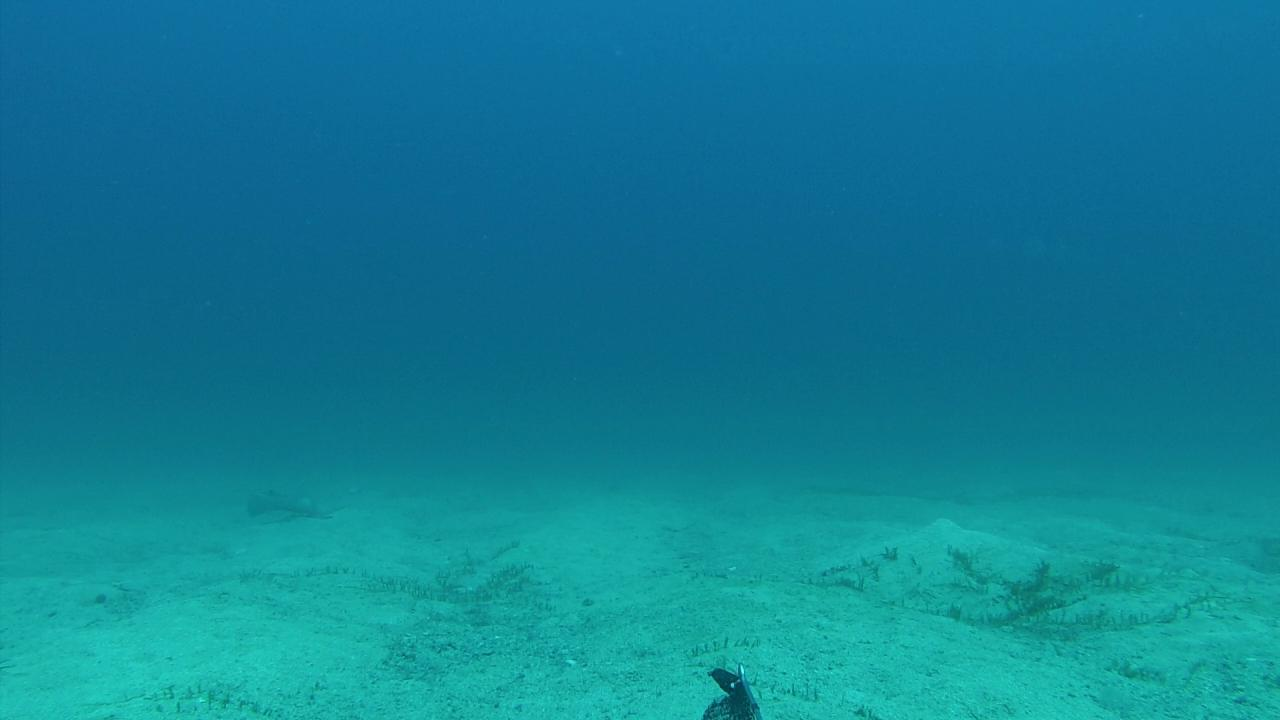dasyatis: (244, 487, 348, 520)
